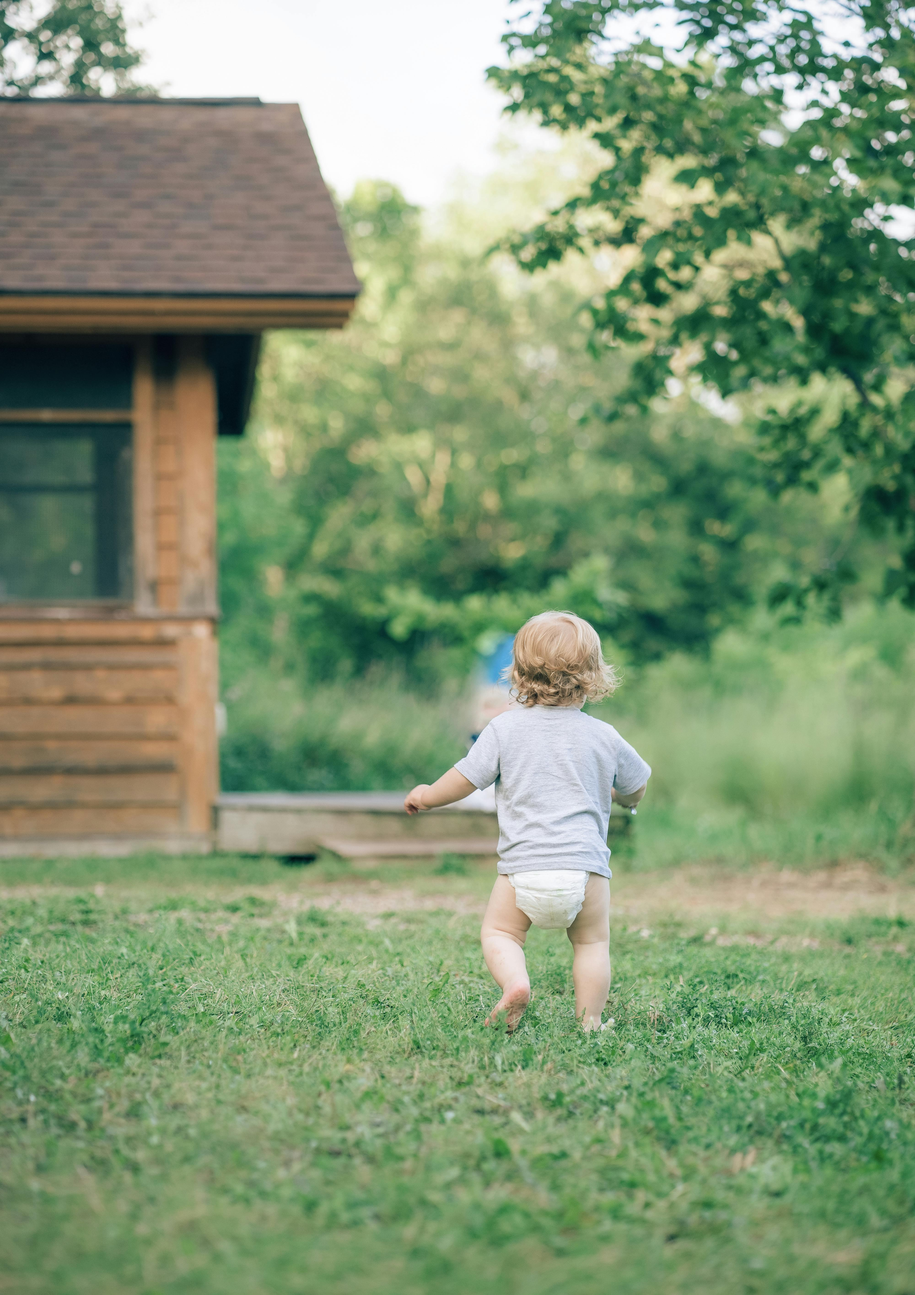Human: (406, 591, 691, 1062)
